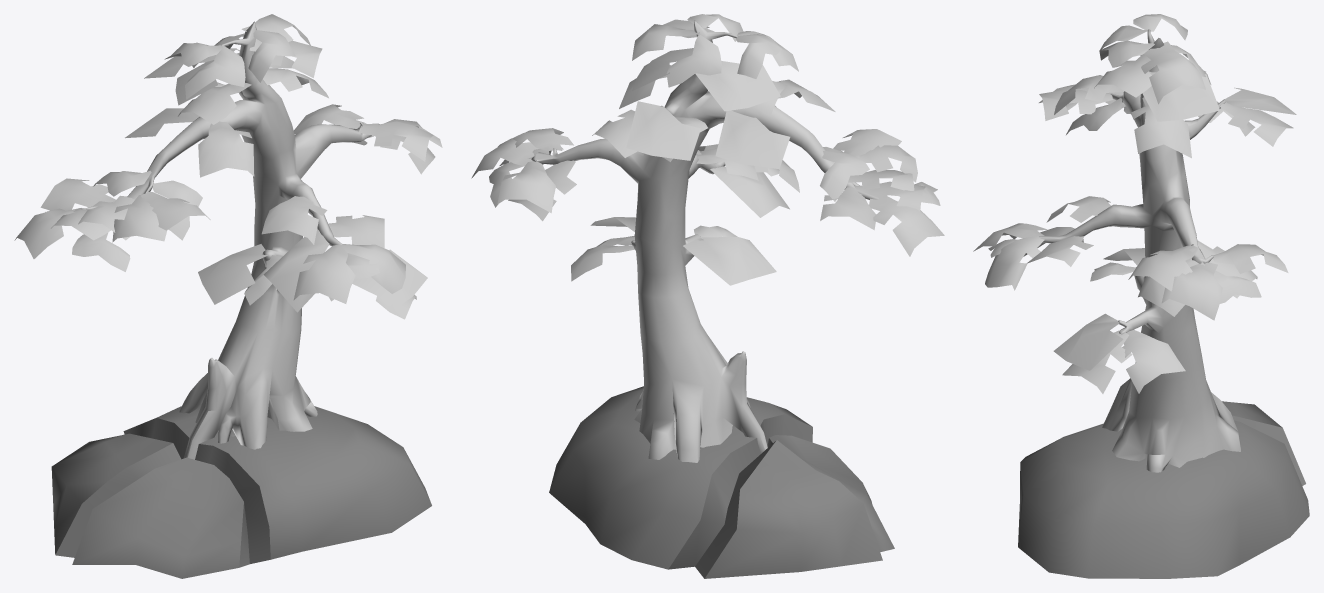
Rendered from Life_tree.fbx.
3 views of the same model, side by side, from view 1: azimuth 30°, elevation 25°; view 2: azimuth 150°, elevation 25°; view 3: azimuth 270°, elevation 25° (orthographic).
Parts seen in each view (by area): view 1: Life_tree; view 2: Life_tree; view 3: Life_tree.
Boxes of the visible parts, bbox=[...] form: Life_tree: bbox=[14, 14, 442, 578]; Life_tree: bbox=[471, 14, 944, 578]; Life_tree: bbox=[973, 14, 1309, 578].
Bounding box in the file's own units: 104 × 114 × 70.25.
